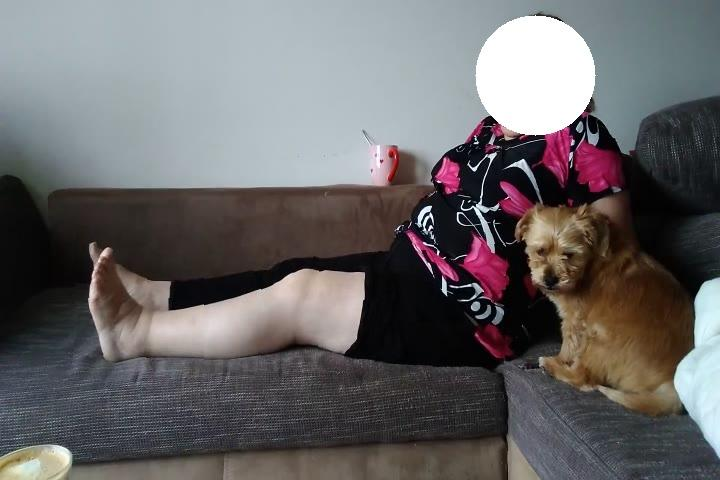lower_body: (75, 228, 506, 373)
